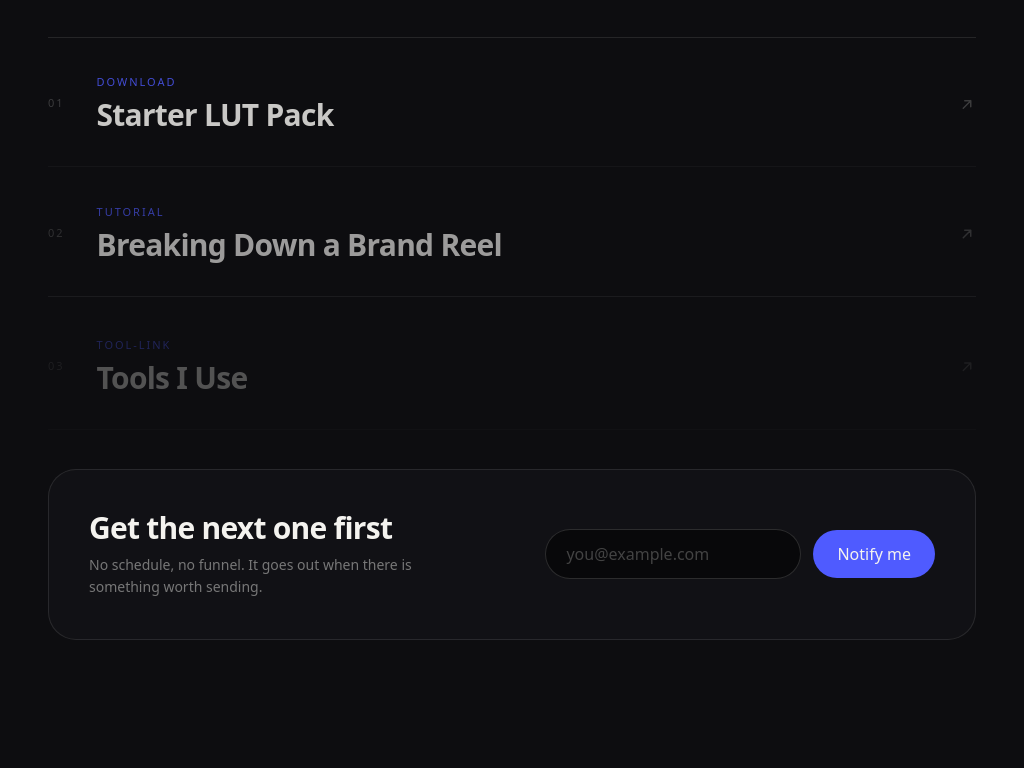
Test: ResourcesTeaser › rejects an invalid email on submit
This screenshot has width=1024, height=768.
(page scrolled)
Type "not-an-email" into the field named "email" at (673, 554), box 545,529 -> 801,579
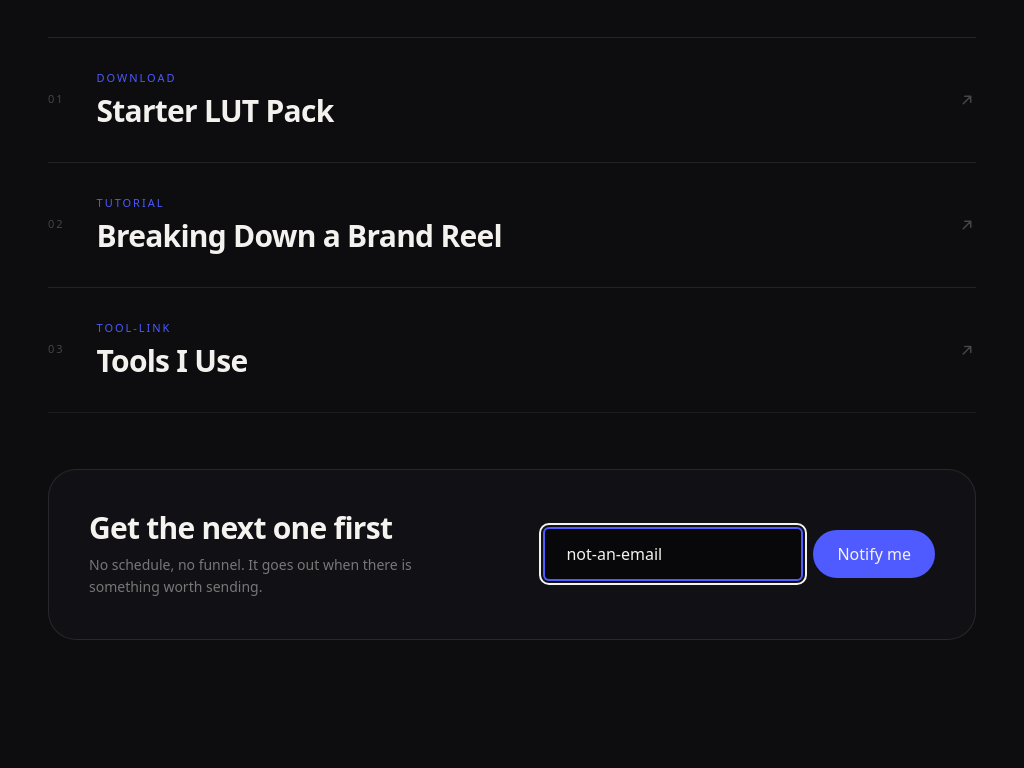
Click the button "Notify me" at (874, 554), box 813,530 -> 935,578
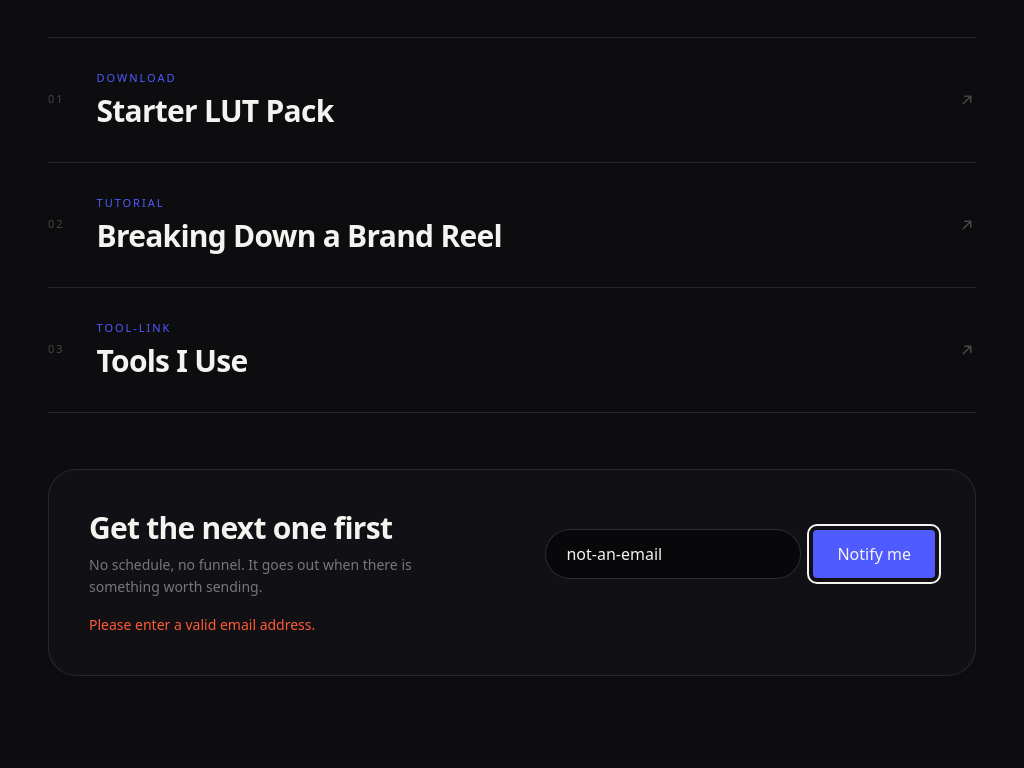
Expected: the text "Please enter a valid email address." is shown, 89,615 -> 315,634
